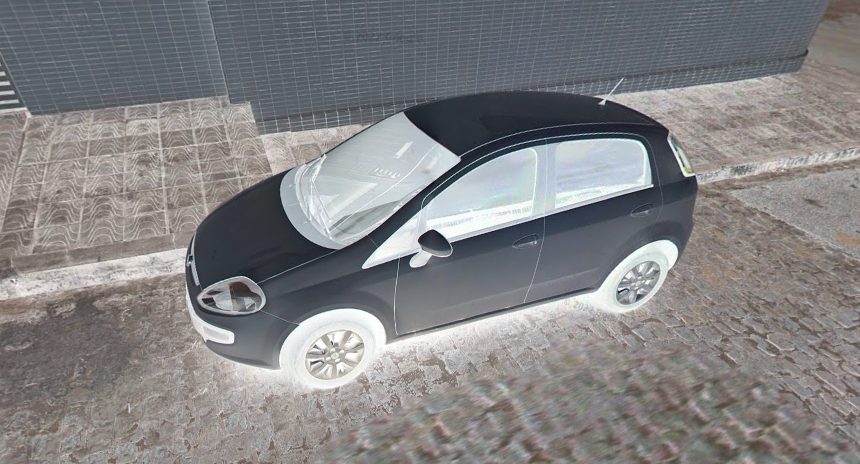car: (171, 72, 724, 397)
